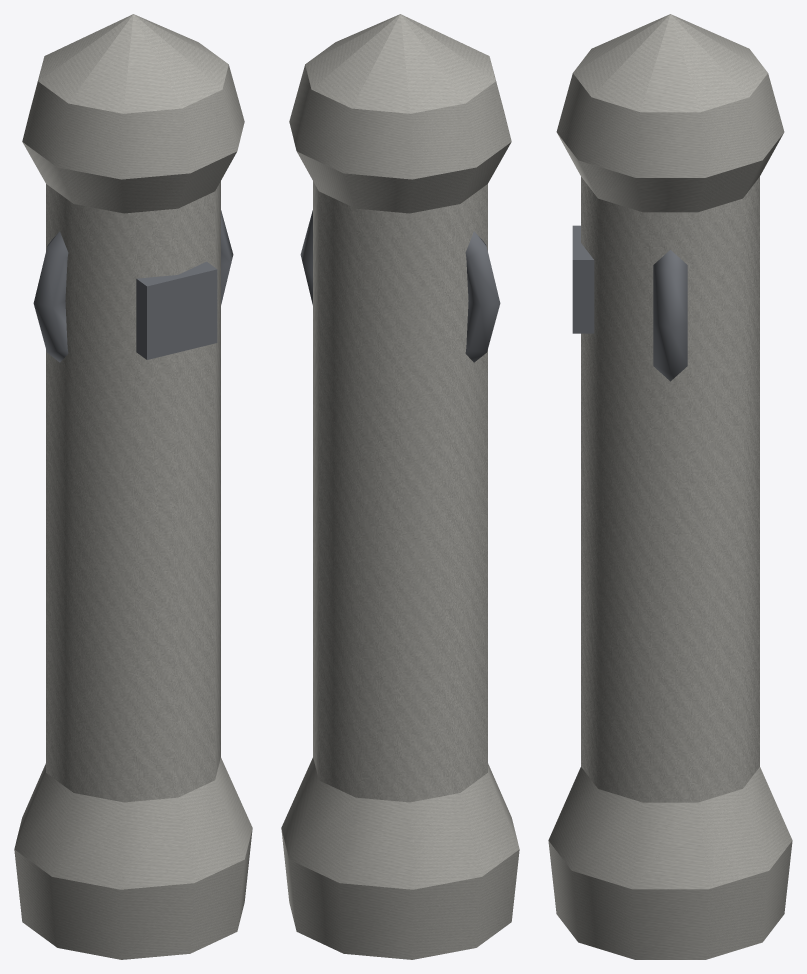
The model's file is town-hitching-post.glb.
The picture shows the model from 3 angles, left to right: view 1: azimuth 30°, elevation 25°; view 2: azimuth 150°, elevation 25°; view 3: azimuth 270°, elevation 25°; orthographic projection.
Visible parts, largest first — view 1: town-hitching-post; view 2: town-hitching-post; view 3: town-hitching-post.
Boxes of the visible parts, <box> form: town-hitching-post: <box>14,14,252,959</box>; town-hitching-post: <box>281,14,519,959</box>; town-hitching-post: <box>548,14,792,959</box>.
Bounding box in the file's own units: 0.2854 × 1.22 × 0.2999.
Materials: 2 (1 with a texture image).
